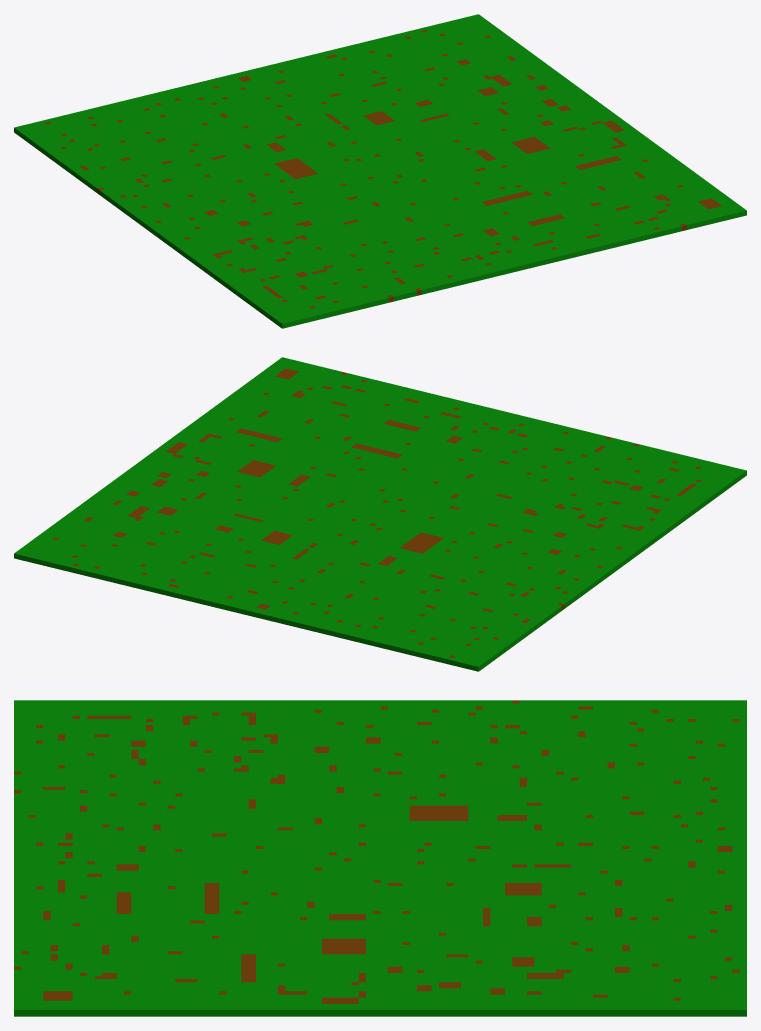
Rendered from ground-0.obj.
3 renders of one model, top to bottom at view 1: azimuth 30°, elevation 25°; view 2: azimuth 150°, elevation 25°; view 3: azimuth 270°, elevation 25°, orthographic. The views are drawn at different scales.
Size of the model in its own units: 10 by 0.1 by 10.
Materials: 1 (1 with a texture image).
